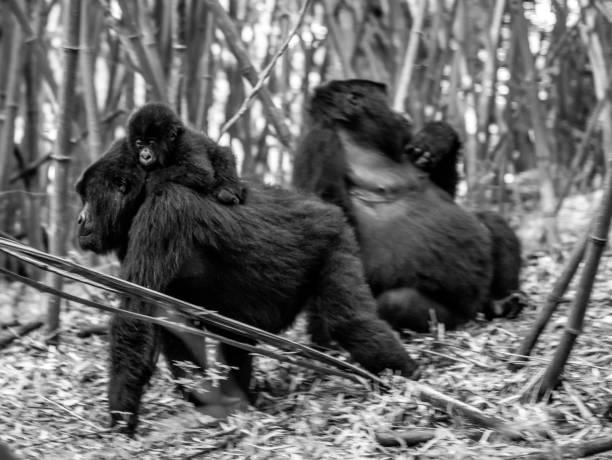goriile_montagne: (70, 51, 527, 448)
